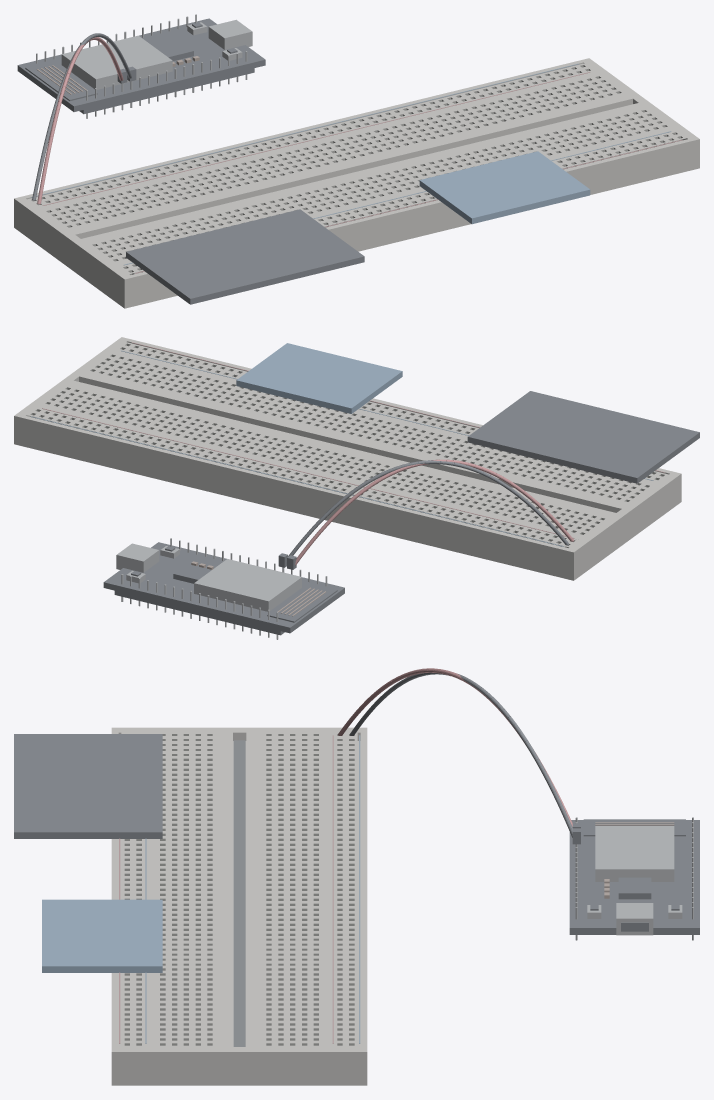
File: step-5.glb
3 renders of one model, top to bottom at view 1: azimuth 30°, elevation 25°; view 2: azimuth 150°, elevation 25°; view 3: azimuth 270°, elevation 25°, orthographic. The views are drawn at different scales.
Parts seen in each view (by area): view 1: breadboard__mesh, uno__mesh, matrix__mesh, joystick__mesh, power_supply__mesh, ground_supply__mesh; view 2: breadboard__mesh, uno__mesh, matrix__mesh, joystick__mesh, ground_supply__mesh, power_supply__mesh; view 3: breadboard__mesh, matrix__mesh, uno__mesh, joystick__mesh, ground_supply__mesh, power_supply__mesh.
Boxes of the visible parts, x1,y1,x2,y2 form: breadboard__mesh: (14,58,699,308); uno__mesh: (17,14,265,118); matrix__mesh: (126,209,364,304); joystick__mesh: (419,151,590,224); power_supply__mesh: (37,37,127,204); ground_supply__mesh: (32,33,136,200); breadboard__mesh: (14,337,681,580); uno__mesh: (103,538,344,639); matrix__mesh: (467,391,699,483); joystick__mesh: (236,343,402,413); ground_supply__mesh: (278,460,568,567); power_supply__mesh: (287,459,573,569); breadboard__mesh: (111,727,367,1085); matrix__mesh: (14,734,162,838); uno__mesh: (569,817,699,940); joystick__mesh: (42,899,162,972); ground_supply__mesh: (350,672,580,844); power_supply__mesh: (338,668,580,828).
Size of the model in its own units: 0.165 by 0.0348 by 0.1475.
